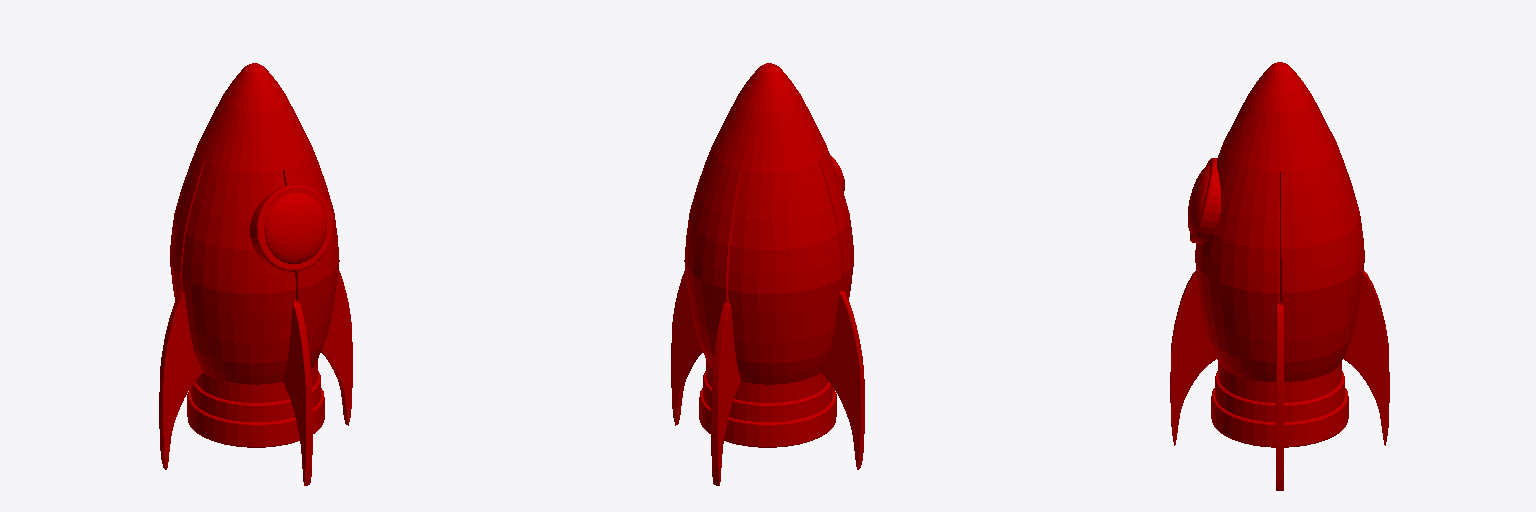
File: rocketobj.obj
The picture shows the model from 3 angles: view 1: azimuth 30°, elevation 25°; view 2: azimuth 150°, elevation 25°; view 3: azimuth 270°, elevation 25°; orthographic projection.
Visible parts, largest first — view 1: Body_Cylinder.002, Wings_Cube.003, Tip_Cylinder.003, Engine_Cylinder.006, Window.001_Cylinder.008, Window_Cylinder.007; view 2: Body_Cylinder.002, Wings_Cube.003, Tip_Cylinder.003, Engine_Cylinder.006; view 3: Body_Cylinder.002, Wings_Cube.003, Tip_Cylinder.003, Engine_Cylinder.006, Window_Cylinder.007, Window.001_Cylinder.008.
Boxes of the visible parts, box(x1,y1,x2,y2) form: Body_Cylinder.002: box(170, 147, 339, 384); Wings_Cube.003: box(159, 270, 352, 485); Tip_Cylinder.003: box(197, 63, 311, 172); Engine_Cylinder.006: box(187, 360, 324, 447); Window.001_Cylinder.008: box(264, 193, 326, 263); Window_Cylinder.007: box(250, 184, 332, 271); Body_Cylinder.002: box(684, 147, 853, 384); Wings_Cube.003: box(671, 270, 864, 485); Tip_Cylinder.003: box(712, 63, 826, 172); Engine_Cylinder.006: box(699, 360, 836, 447); Body_Cylinder.002: box(1195, 145, 1364, 381); Wings_Cube.003: box(1170, 271, 1389, 490); Tip_Cylinder.003: box(1222, 62, 1337, 171); Engine_Cylinder.006: box(1211, 362, 1348, 447); Window_Cylinder.007: box(1190, 158, 1220, 243); Window.001_Cylinder.008: box(1188, 165, 1209, 233).
Size of the model in its own units: 1.63 by 3.12 by 1.63.